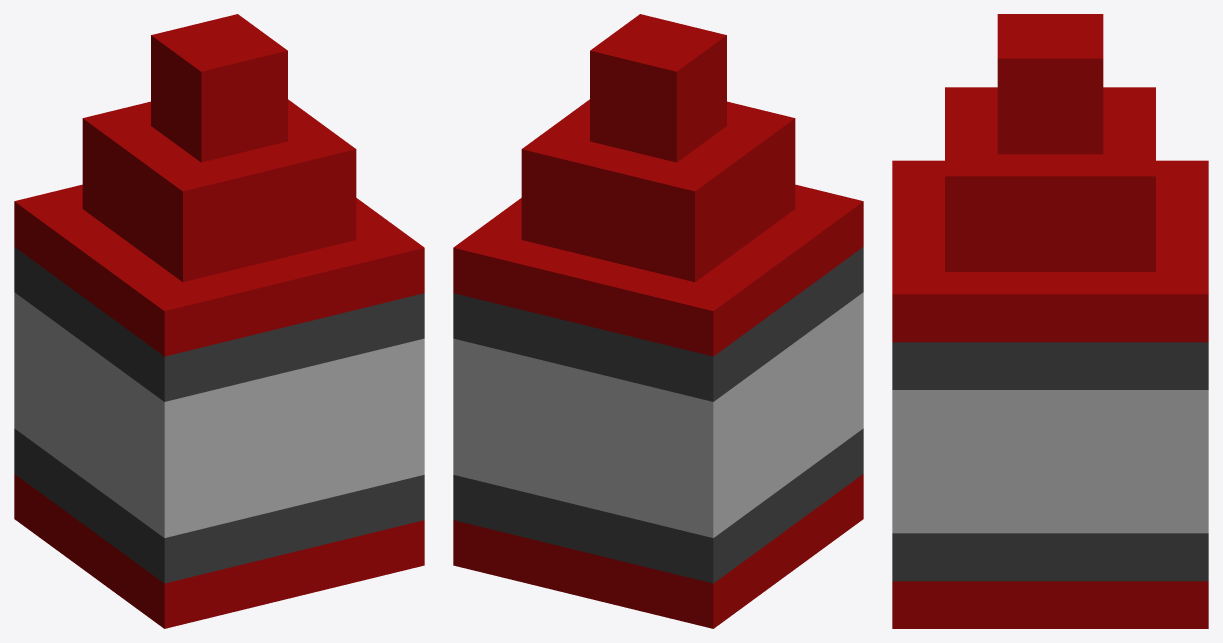
The model's file is ketchup.obj.
The picture shows the model from 3 angles, left to right: view 1: azimuth 30°, elevation 25°; view 2: azimuth 150°, elevation 25°; view 3: azimuth 270°, elevation 25°; orthographic projection. The views are drawn at different scales.
Visible parts, largest first — view 1: ketchup; view 2: ketchup; view 3: ketchup.
Boxes of the visible parts, x1,y1,x2,y2 form: ketchup: (14,14,424,628); ketchup: (453,14,863,628); ketchup: (892,14,1208,628).
Bounding box in the file's own units: 6 × 11 × 6.
Materials: 1 (1 with a texture image).
